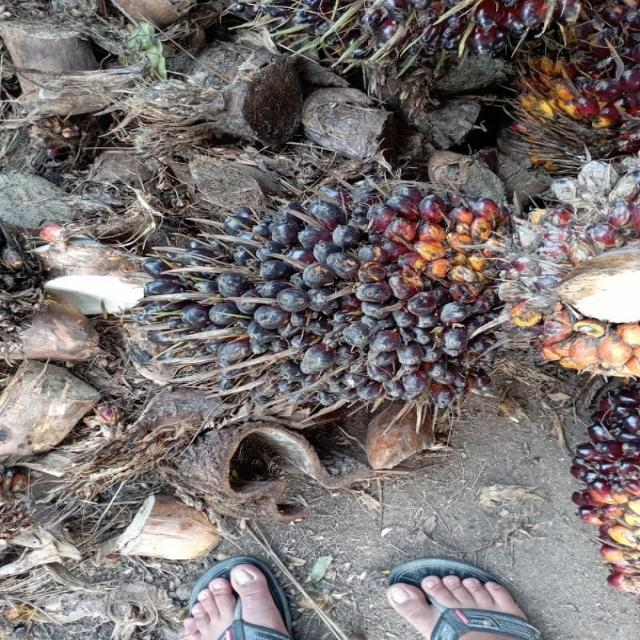fraksi 00: (136, 182, 516, 413)
